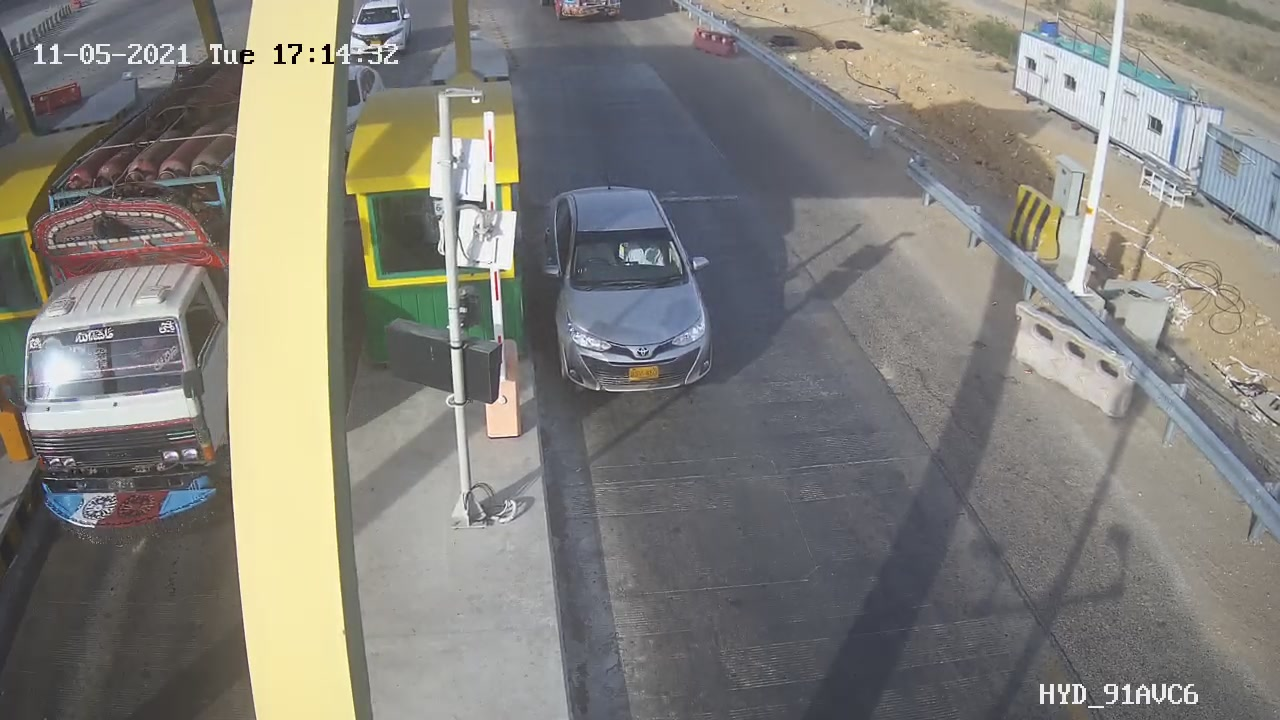F1: (520, 165, 750, 417)
